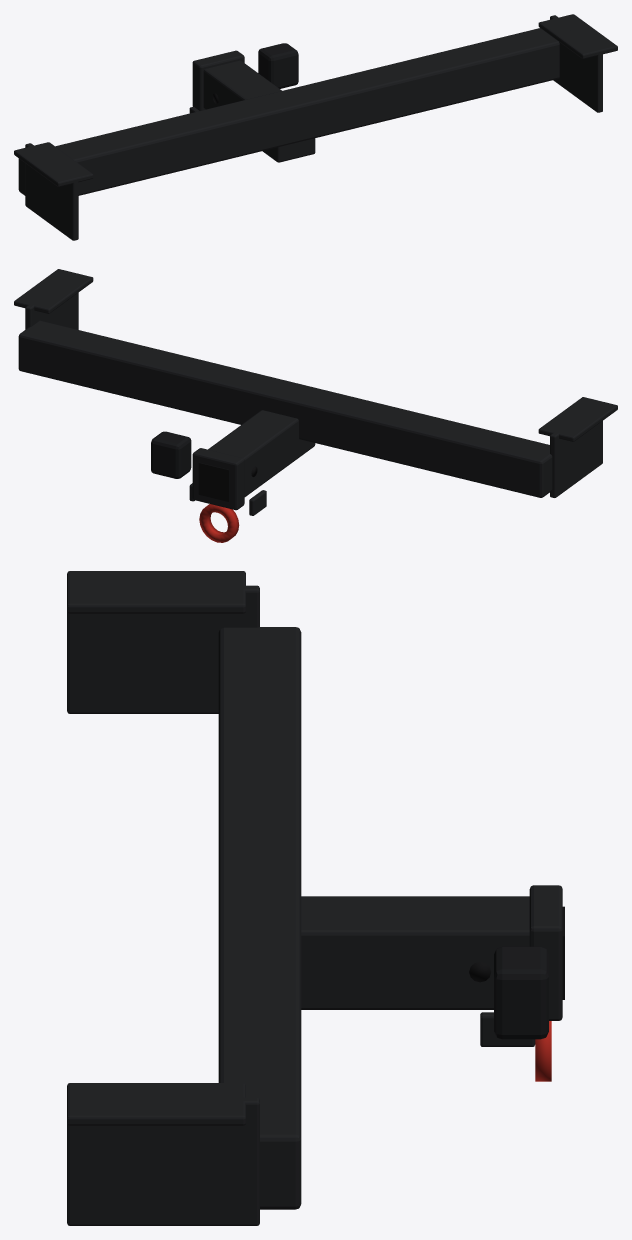
Rendered from hitch_sunrise_a.glb.
3 views of the same model, one above another, from view 1: azimuth 30°, elevation 25°; view 2: azimuth 150°, elevation 25°; view 3: azimuth 270°, elevation 25° (orthographic). The views are drawn at different scales.
Visible parts, largest first — view 1: cross.001, receiver.002, sidePlate-1.001, sidePlate1.001, frameFoot-1.001, frameFoot1.001, socket.002, collar.005; view 2: cross.001, receiver.002, sidePlate-1.001, frameFoot-1.001, frameFoot1.001, collar.005, socket.002, sidePlate1.001, bore.001, shackle.001; view 3: cross.001, receiver.002, sidePlate1.001, sidePlate-1.001, frameFoot-1.001, frameFoot1.001, socket.002, collar.005.
Part boxes in pixels (x1=…): cross.001: x1=18, y1=28, x2=559, y2=195; receiver.002: x1=203, y1=60, x2=315, y2=162; sidePlate-1.001: x1=25, y1=143, x2=78, y2=240; sidePlate1.001: x1=550, y1=15, x2=602, y2=112; frameFoot-1.001: x1=14, y1=142, x2=93, y2=186; frameFoot1.001: x1=538, y1=14, x2=617, y2=58; socket.002: x1=258, y1=43, x2=298, y2=88; collar.005: x1=192, y1=50, x2=244, y2=110; cross.001: x1=18, y1=320, x2=552, y2=497; receiver.002: x1=197, y1=410, x2=315, y2=504; sidePlate-1.001: x1=550, y1=400, x2=602, y2=497; frameFoot-1.001: x1=538, y1=397, x2=617, y2=441; frameFoot1.001: x1=14, y1=269, x2=93, y2=313; collar.005: x1=192, y1=448, x2=244, y2=510; socket.002: x1=151, y1=431, x2=191, y2=478; sidePlate1.001: x1=25, y1=272, x2=78, y2=329; bore.001: x1=198, y1=462, x2=229, y2=501; shackle.001: x1=199, y1=504, x2=239, y2=542; cross.001: x1=218, y1=627, x2=301, y2=1209; receiver.002: x1=301, y1=896, x2=529, y2=1009; sidePlate1.001: x1=67, y1=1097, x2=259, y2=1225; sidePlate-1.001: x1=67, y1=585, x2=259, y2=713; frameFoot-1.001: x1=67, y1=571, x2=245, y2=613; frameFoot1.001: x1=67, y1=1083, x2=245, y2=1125; socket.002: x1=494, y1=946, x2=548, y2=1039; collar.005: x1=529, y1=885, x2=562, y2=1020.
Bounding box in the file's own units: 0.94 × 0.188 × 0.3615.
